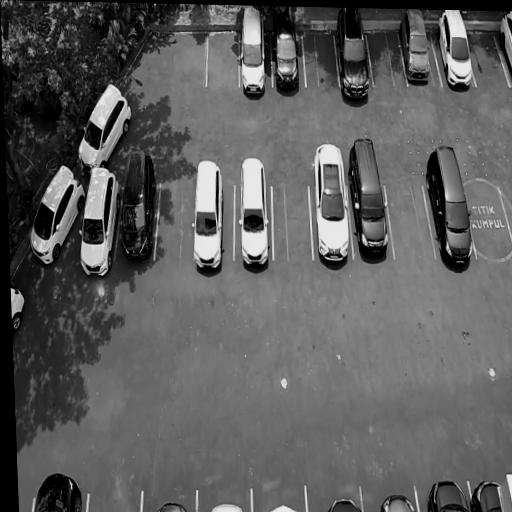Car: (22, 160, 88, 274), (421, 140, 476, 270), (72, 81, 135, 180), (348, 136, 392, 262), (76, 168, 124, 280), (310, 143, 351, 272), (118, 150, 161, 262), (190, 160, 226, 286), (334, 8, 378, 108), (240, 156, 270, 278), (436, 10, 478, 92), (397, 9, 438, 92), (270, 6, 300, 100), (241, 5, 268, 104), (32, 471, 83, 512), (427, 477, 473, 512), (471, 474, 503, 512), (496, 11, 512, 80), (10, 274, 26, 341), (325, 489, 363, 512), (152, 492, 193, 512), (378, 492, 417, 512), (267, 498, 303, 512), (209, 503, 249, 512)
Space Available: (385, 187, 436, 258), (464, 187, 512, 256), (155, 183, 195, 261), (272, 187, 314, 259), (366, 23, 407, 84), (467, 29, 510, 87), (303, 29, 341, 86), (206, 29, 239, 84), (88, 487, 144, 512)
